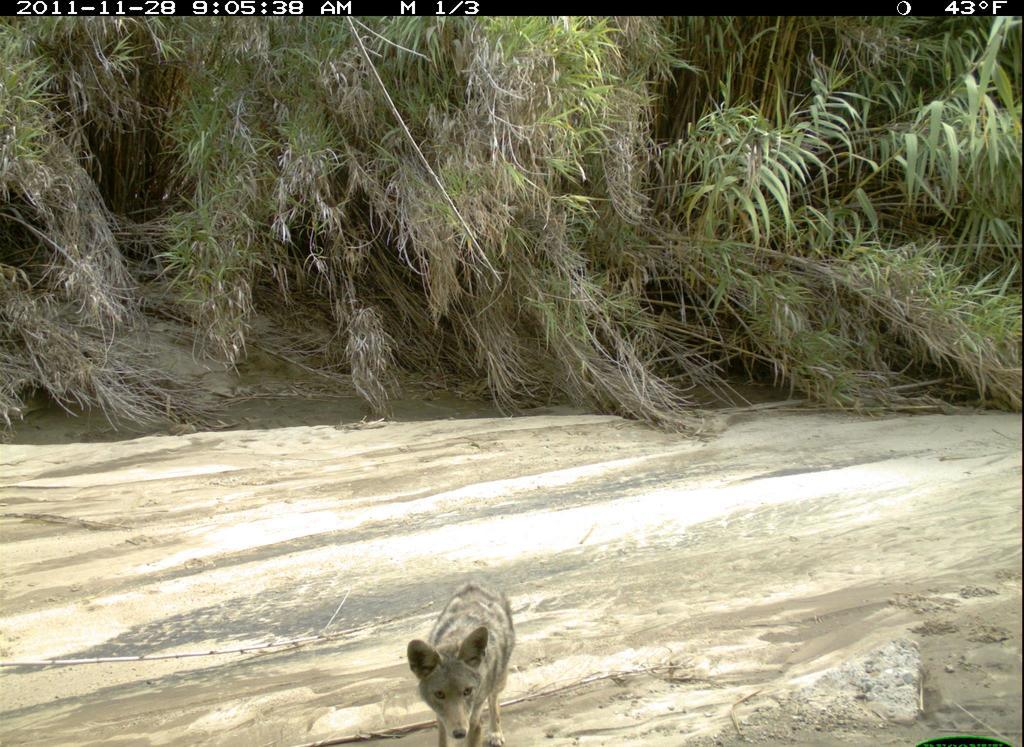coyote: (402, 577, 518, 747)
